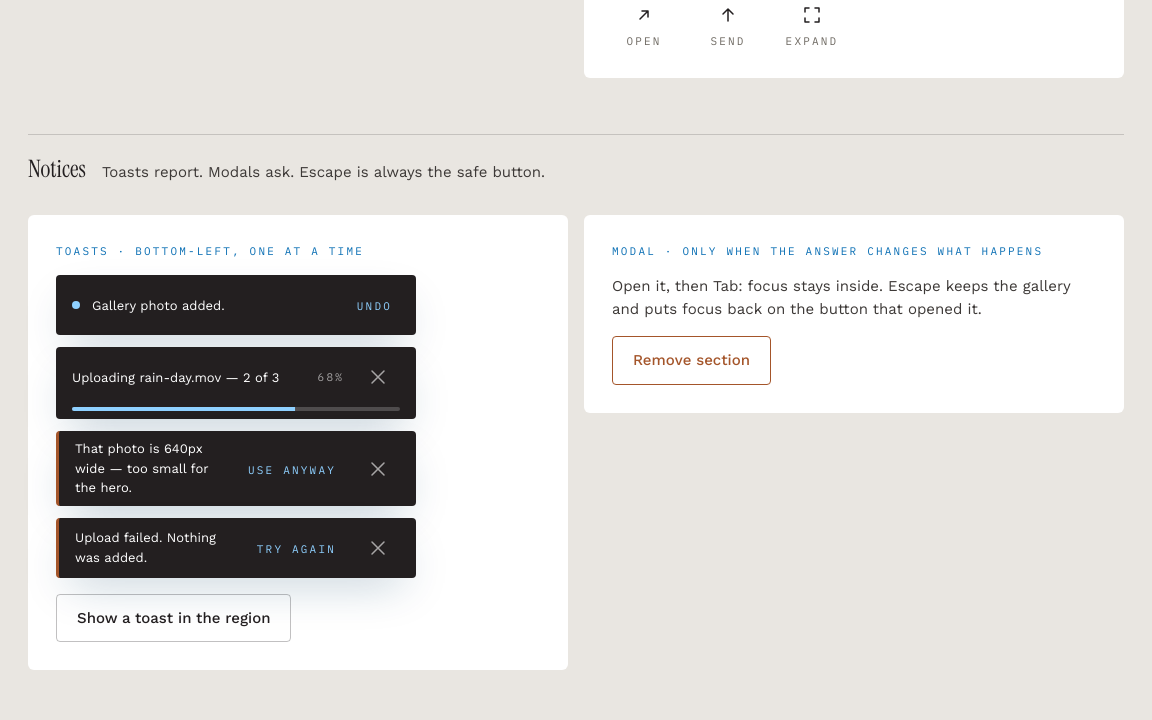
Test: KitPage › opens the modal from the destructive button and closes it on Keep it
(page scrolled)
Click the button "Remove section": (692, 361) [612,336,771,385]
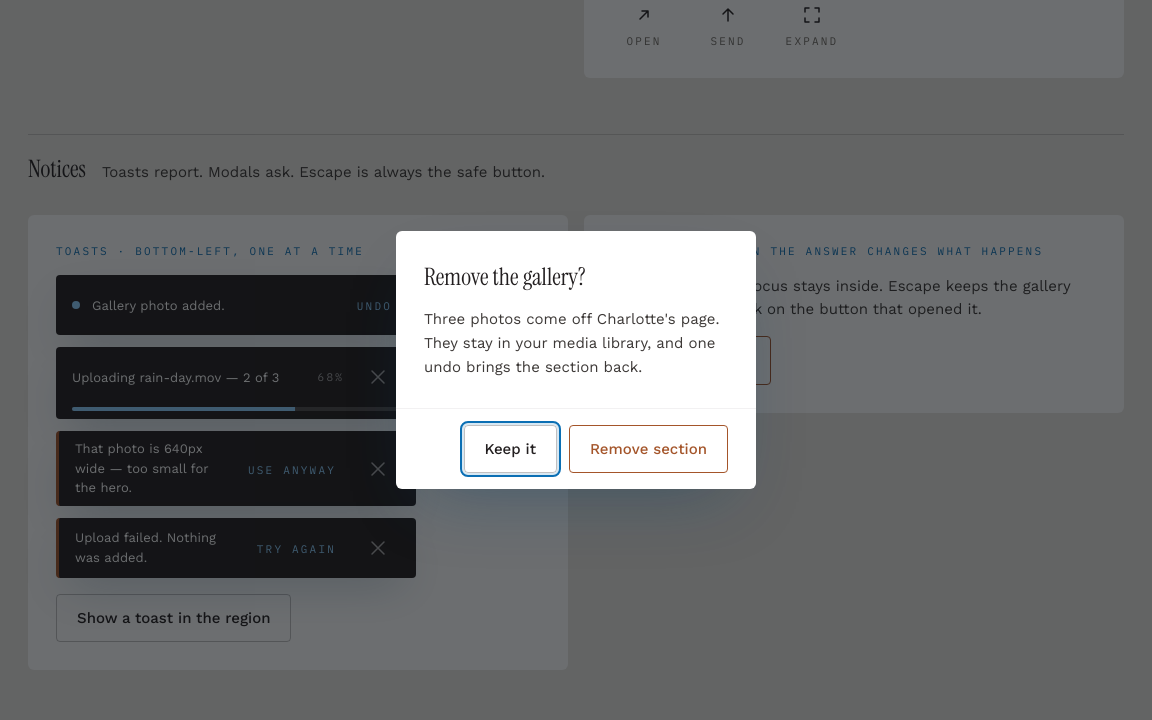
Click the button "Keep it": (510, 449) [464,425,557,473]
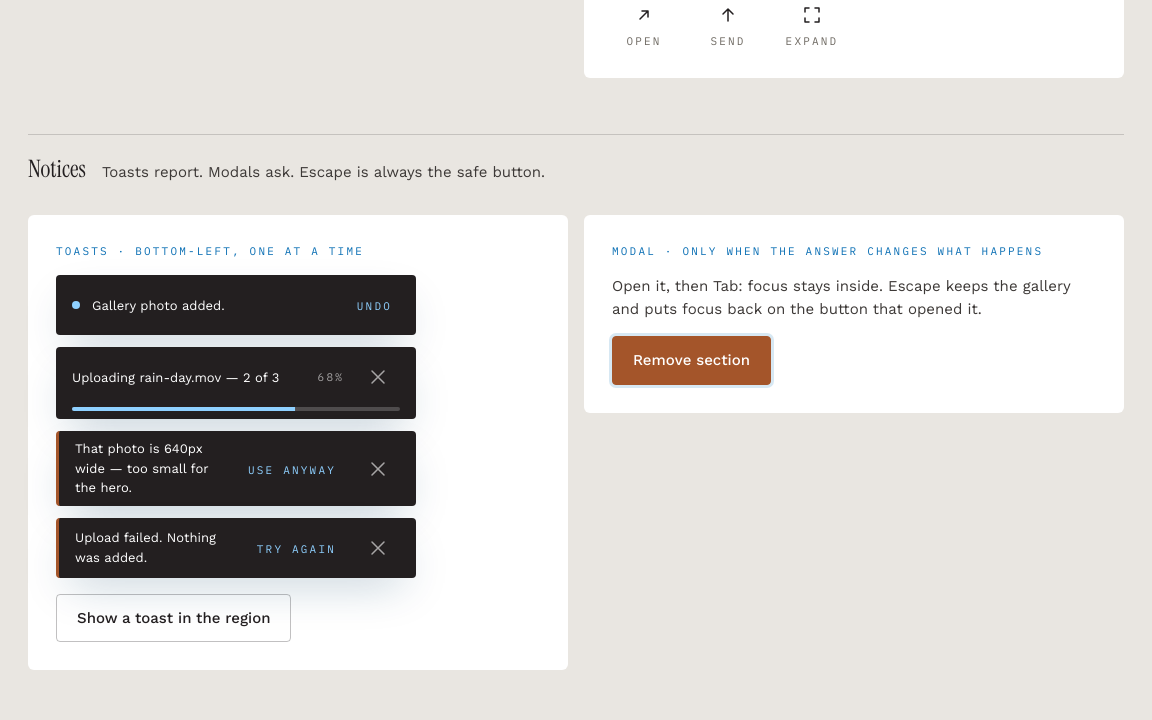
Check: the dialog is gone
